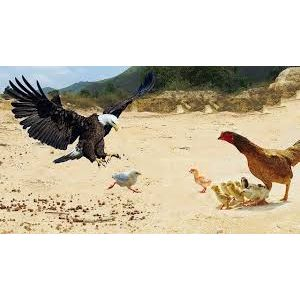eagle: (1, 65, 167, 172)
hen: (210, 119, 300, 207), (106, 172, 144, 193)
